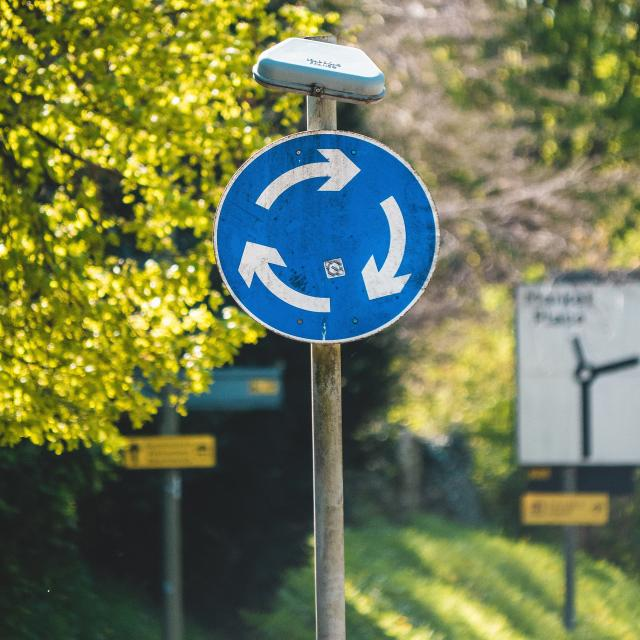roundabout: (215, 127, 447, 344)
